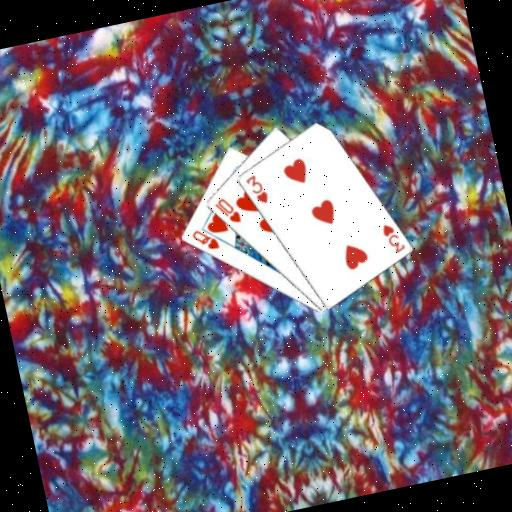10H: (210, 193, 243, 229)
3H: (241, 169, 271, 208), (377, 218, 407, 257)
QH: (187, 223, 221, 255)
